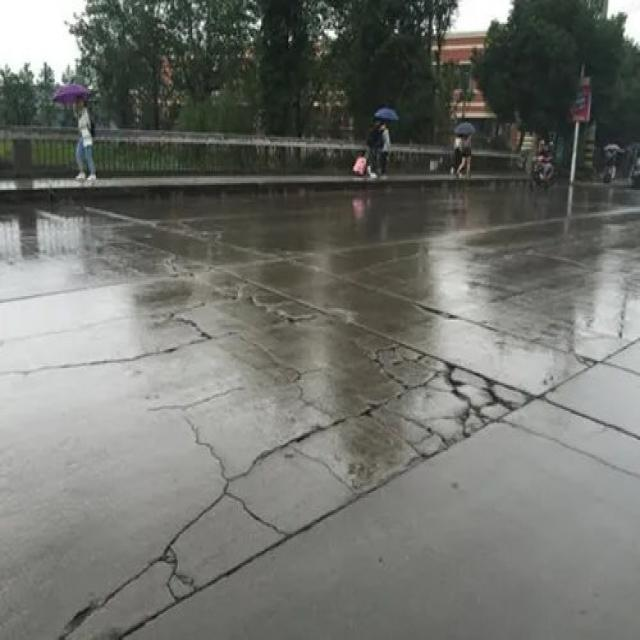Pothole: (362, 325, 567, 484), (139, 255, 329, 352)
